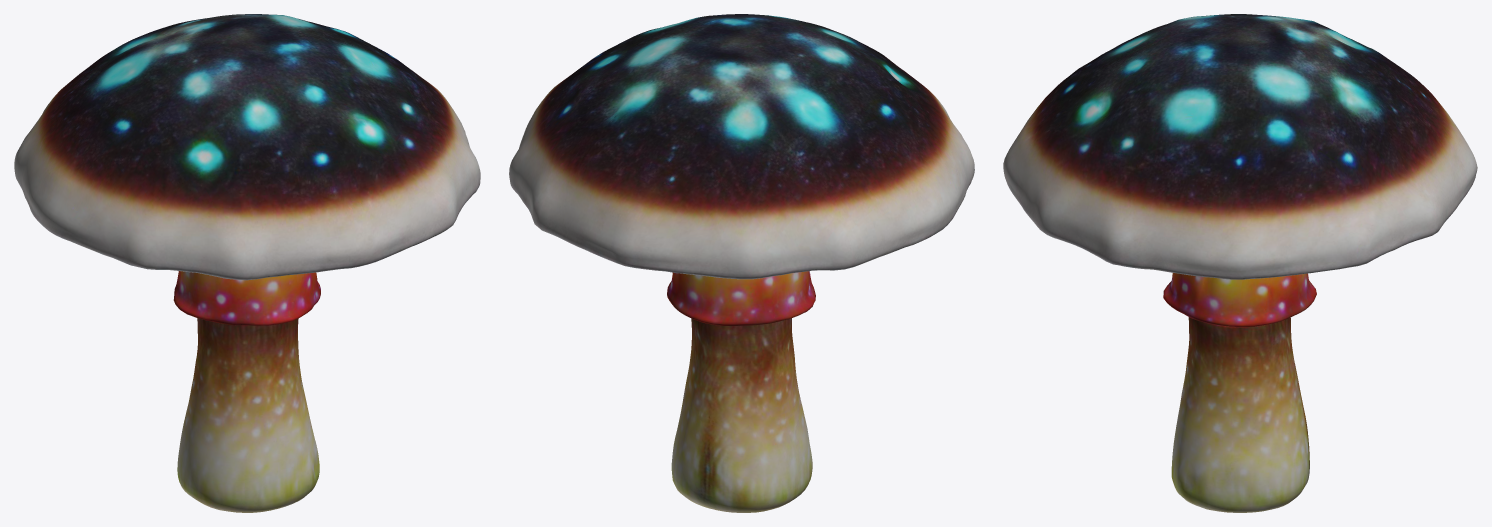
File: 22652d86db19_a_very_bright_glowi.fbx
3 views of the same model, side by side, from view 1: azimuth 30°, elevation 25°; view 2: azimuth 150°, elevation 25°; view 3: azimuth 270°, elevation 25° (orthographic).
Parts seen in each view (by area): view 1: mesh; view 2: mesh; view 3: mesh.
Boxes of the visible parts, box(x1,y1,x2,y2) form: mesh: box(14, 14, 480, 512); mesh: box(509, 14, 974, 512); mesh: box(1003, 14, 1477, 512).
Bounding box in the file's own units: 94.24 × 99.93 × 94.81.
